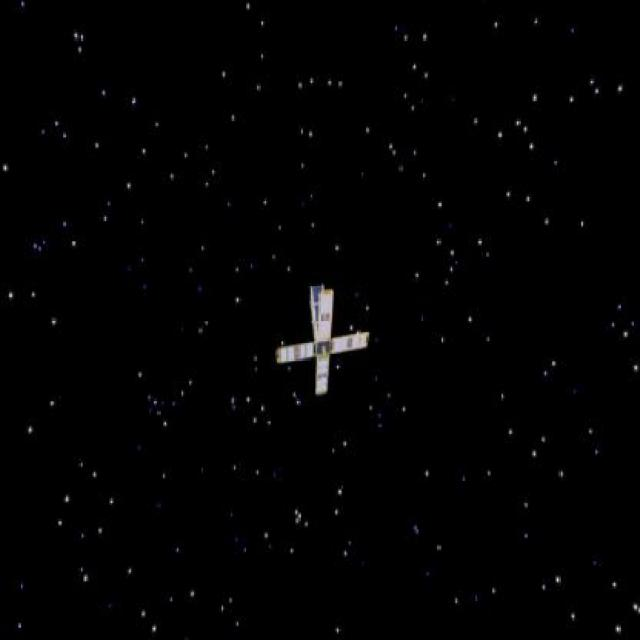satellite: (271, 279, 377, 400)
